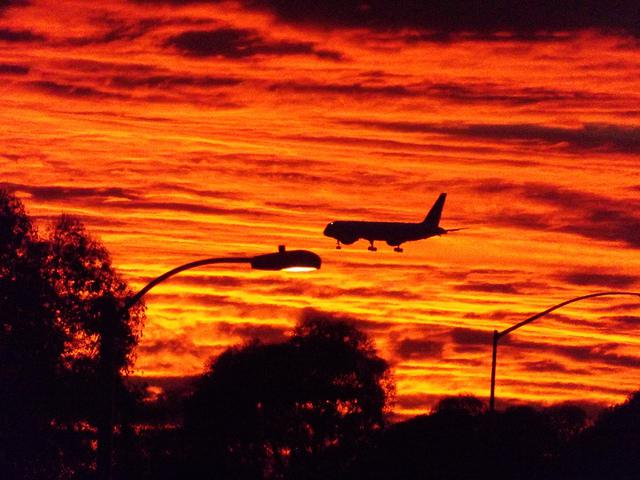Airplane: (322, 193, 471, 253)
